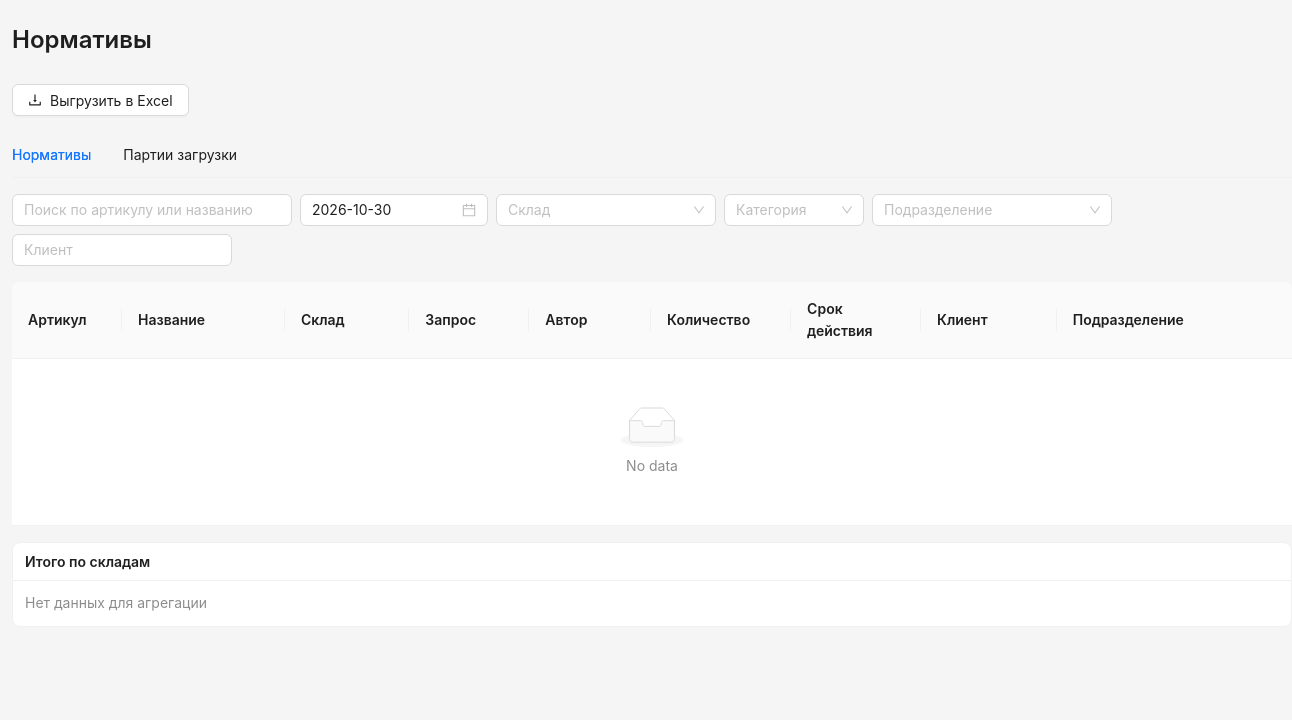
Test: NormativesPage › shows upload batches and actions to an authorized role
Click the tab "Партии загрузки".
click(180, 155)  # box [123, 144, 237, 166]
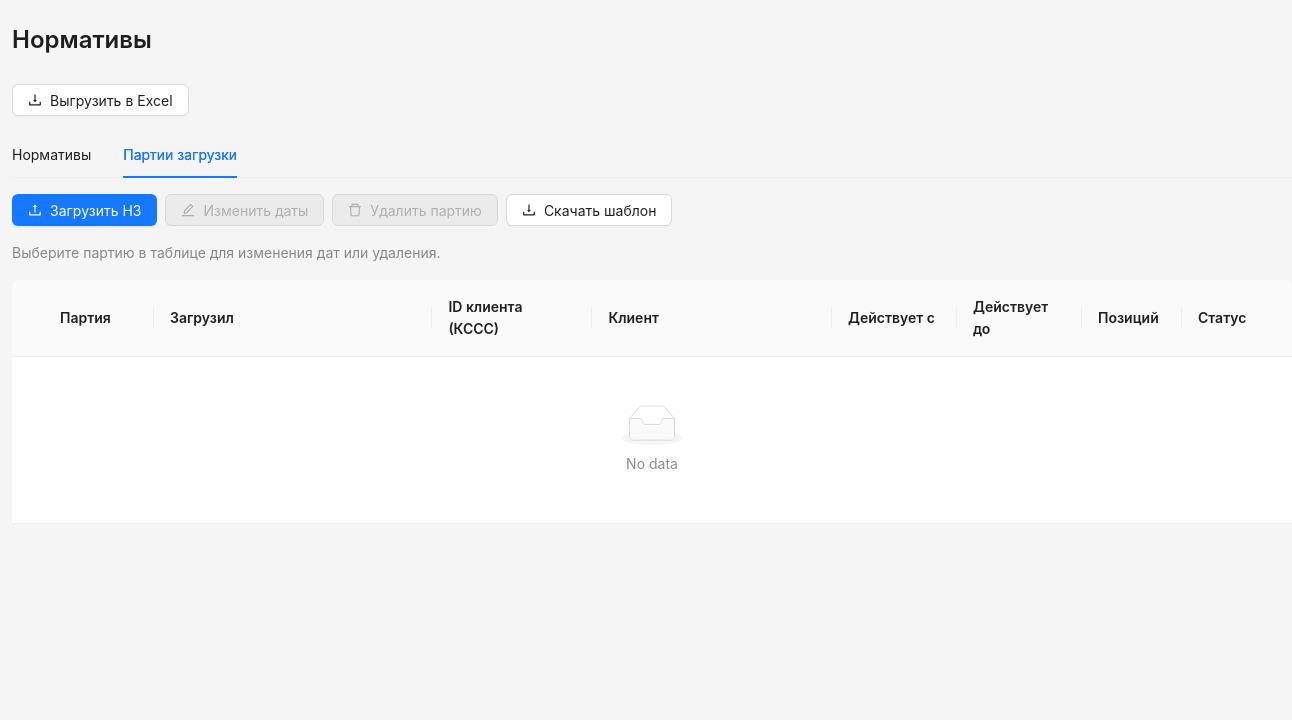
Result: the button "Загрузить НЗ" is shown at [12, 194, 158, 226]
Result: the button "Изменить даты" is shown at [166, 194, 324, 226]
Result: the button "Удалить партию" is shown at [332, 194, 498, 226]
